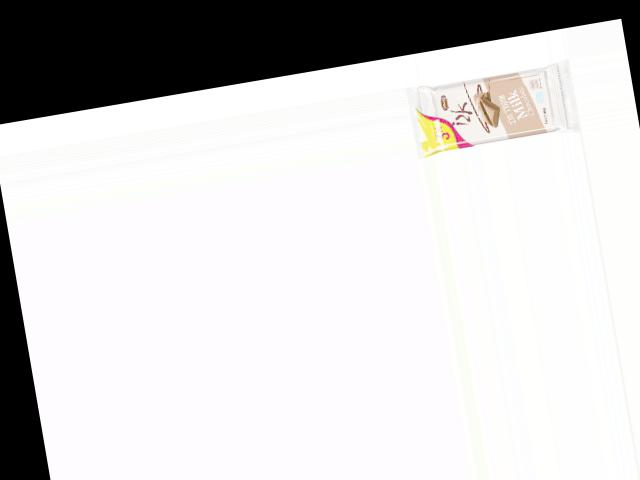chocolate: (405, 60, 565, 159)
